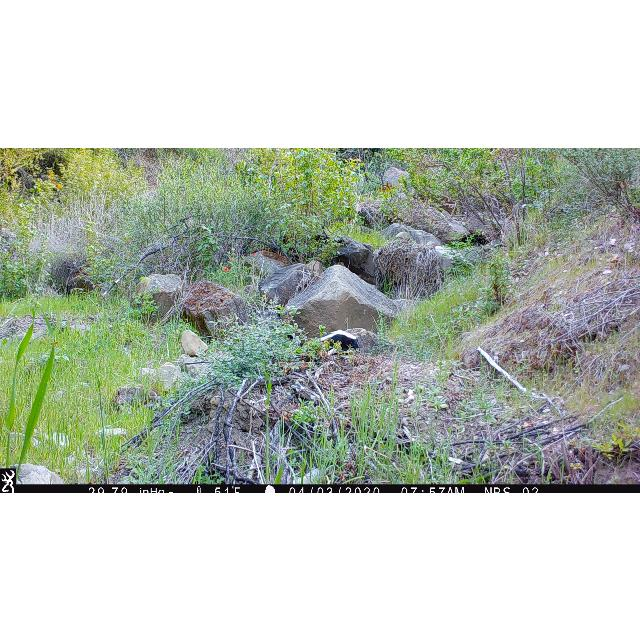animals: (319, 328, 361, 350)
